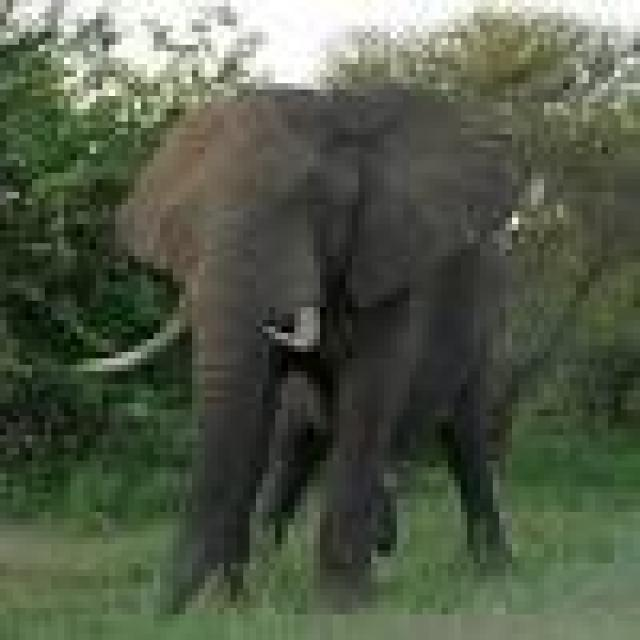Elephant: (96, 76, 544, 602)
